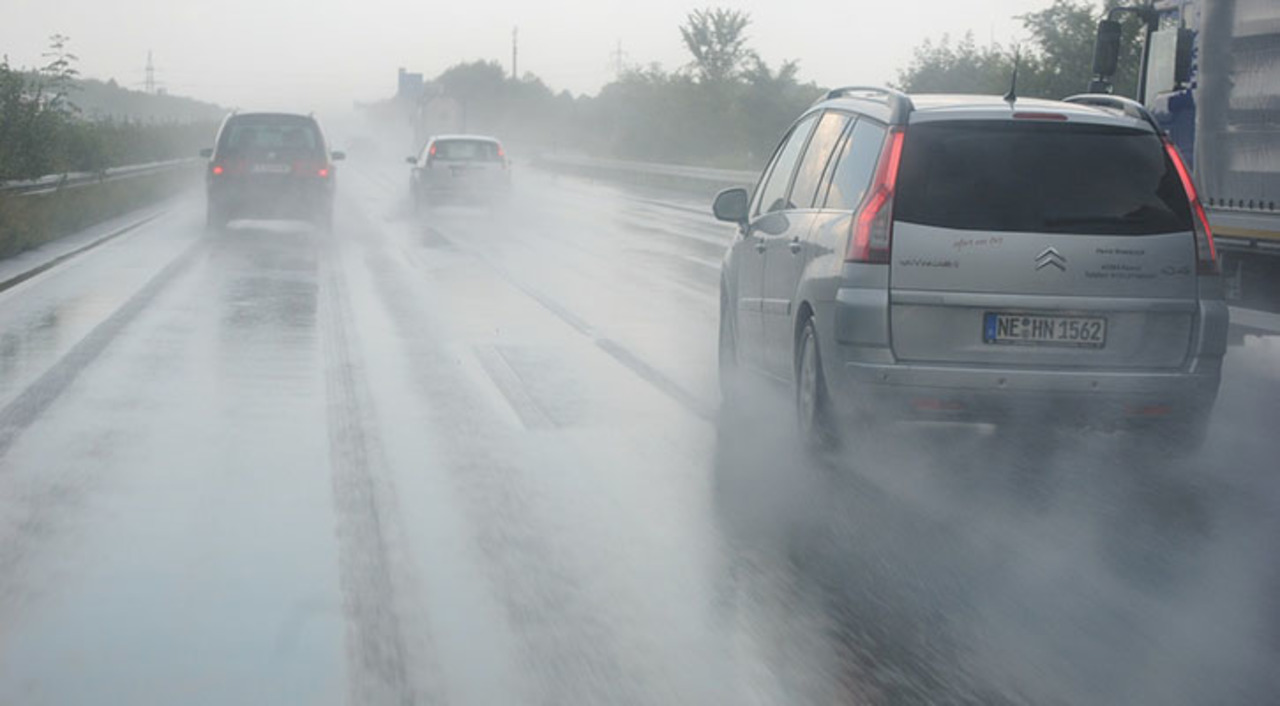car: (715, 82, 1231, 489), (206, 111, 335, 231), (408, 133, 511, 200)
truck: (1094, 6, 1274, 383)
